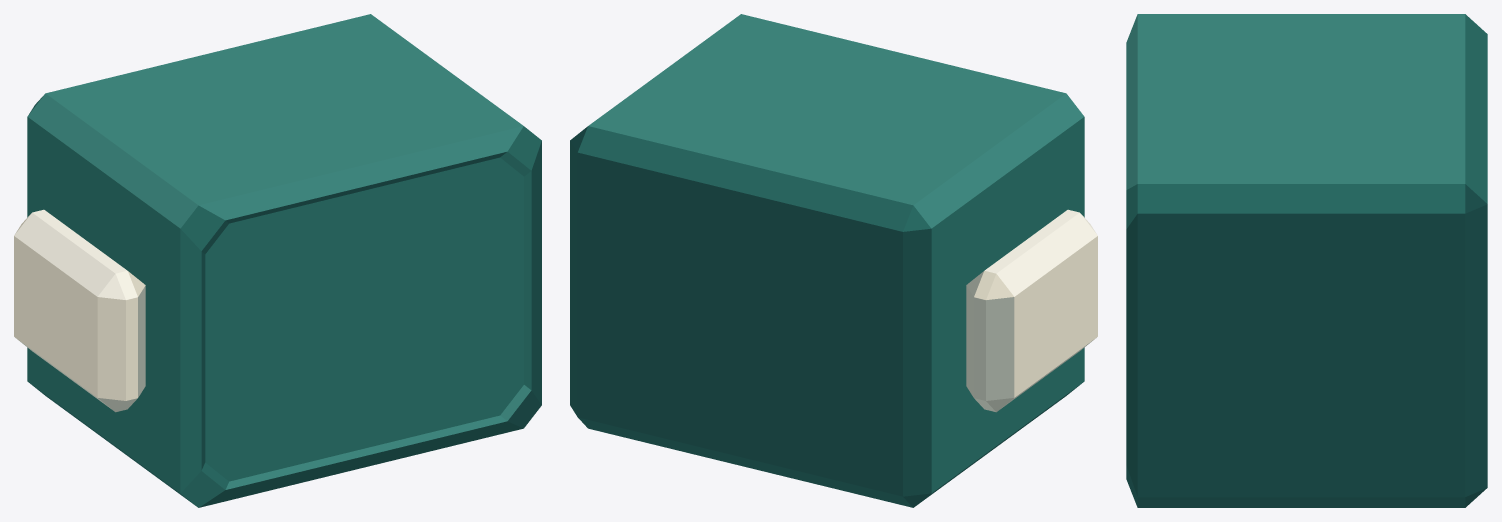
Rendered from Laser_Left.gltf.
3 views of the same model, side by side, from view 1: azimuth 30°, elevation 25°; view 2: azimuth 150°, elevation 25°; view 3: azimuth 270°, elevation 25° (orthographic). The views are drawn at different scales.
Visible parts, largest first — view 1: Laser_Left_baked; view 2: Laser_Left_baked; view 3: Laser_Left_baked.
Part boxes in pixels (box(x1,y1,x2,y2)): Laser_Left_baked: box(14, 14, 541, 507); Laser_Left_baked: box(570, 14, 1097, 507); Laser_Left_baked: box(1126, 14, 1487, 507).
Size of the model in its own units: 0.68 by 0.48 by 0.4852.
